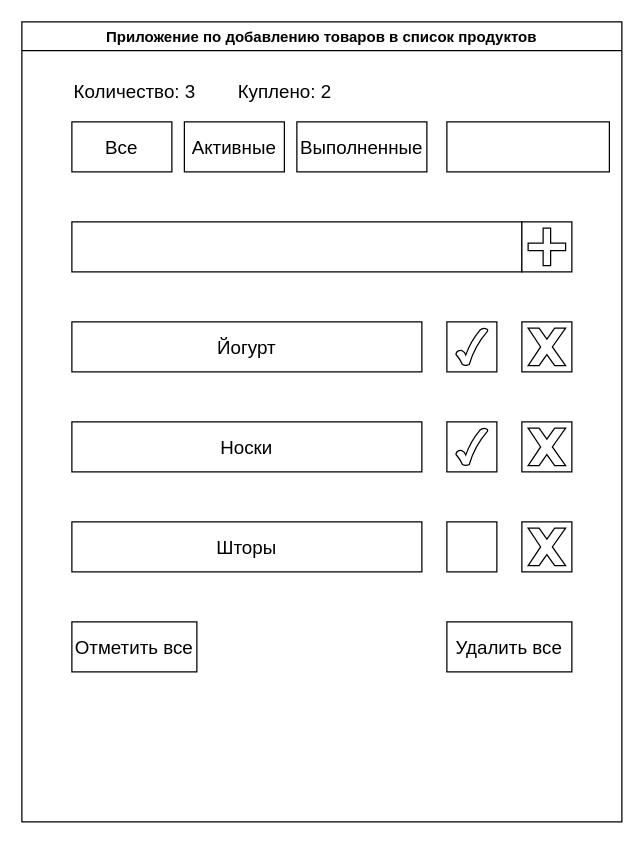
Image size: 644x844. Some labels were removed from this diagram. Each missing label, with the centre of its shape:
"Добавить новый продукт" belongs at [296,246].
"Поиск..." belongs at [527,146].
